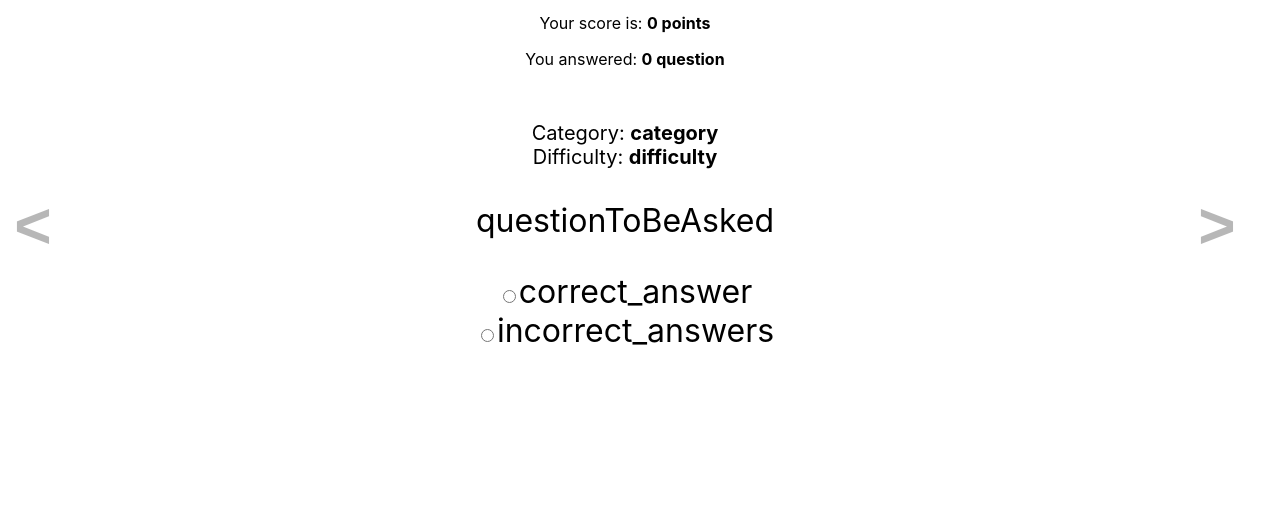
Test: shows END button on last question
Click the radio button labelled "correct_answer" at (509, 296), box [503,290,516,303]
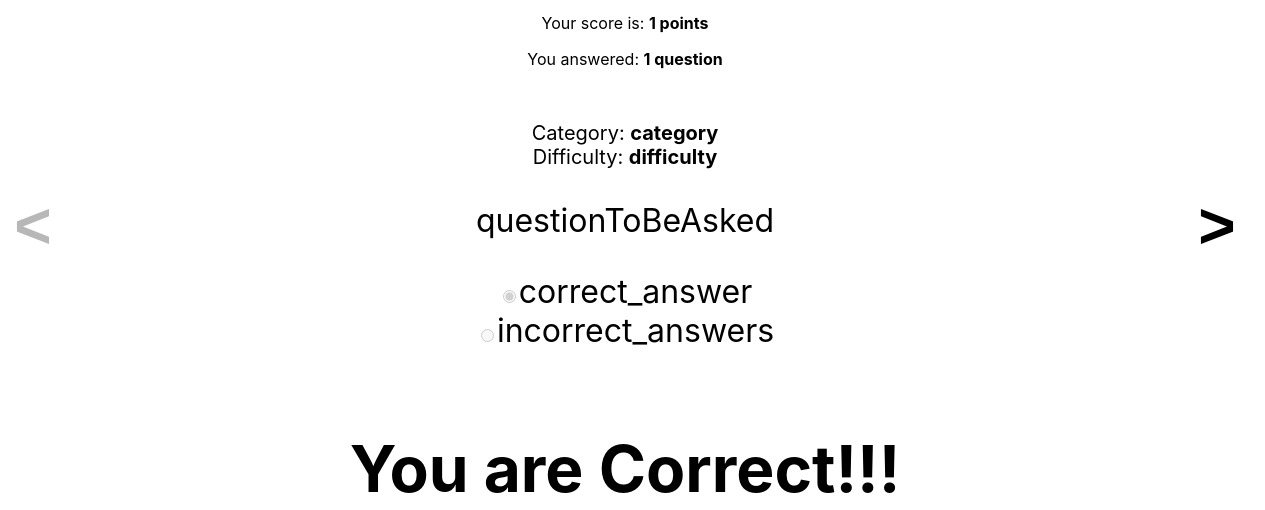
Click the button ">" at (1217, 226), box [1185,85,1249,366]
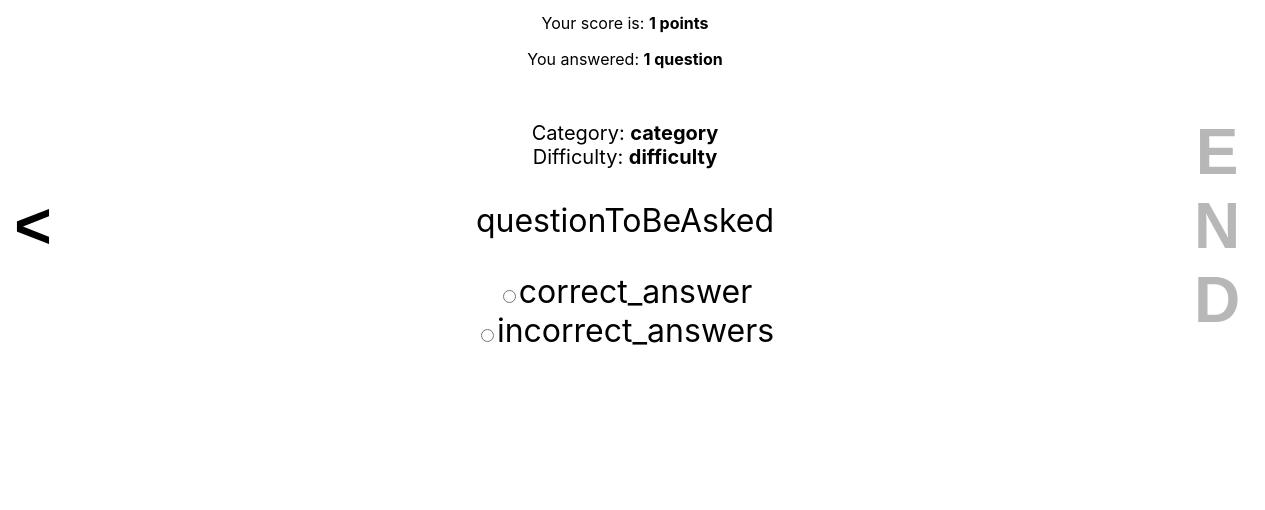
Now the button "END" is shown, box [1185,85,1249,366]
